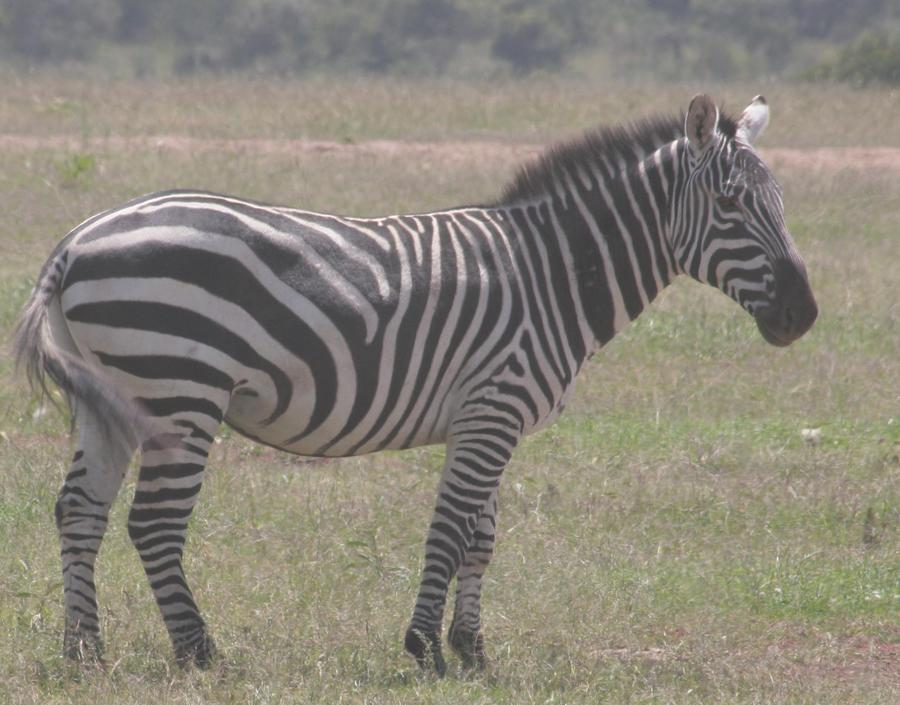zebra_plains: (99, 171, 583, 471)
